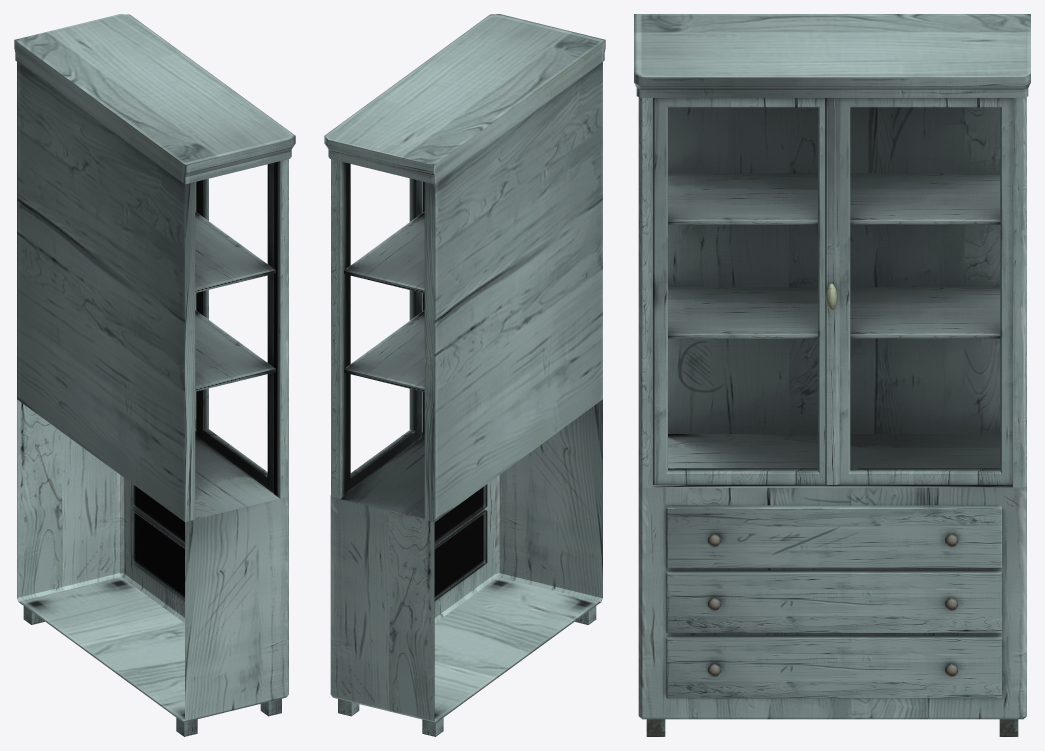
Rendered from shelf.fbx.
The picture shows the model from 3 angles, left to right: view 1: azimuth 30°, elevation 25°; view 2: azimuth 150°, elevation 25°; view 3: azimuth 270°, elevation 25°; orthographic projection. The views are drawn at different scales.
Parts seen in each view (by area): view 1: polySurface157; view 2: polySurface157; view 3: polySurface157.
Part boxes in pixels (<box>): polySurface157: <box>14,14,295,736</box>; polySurface157: <box>324,14,605,736</box>; polySurface157: <box>634,14,1030,736</box>.
Bounding box in the file's own units: 48.54 × 221 × 120.
